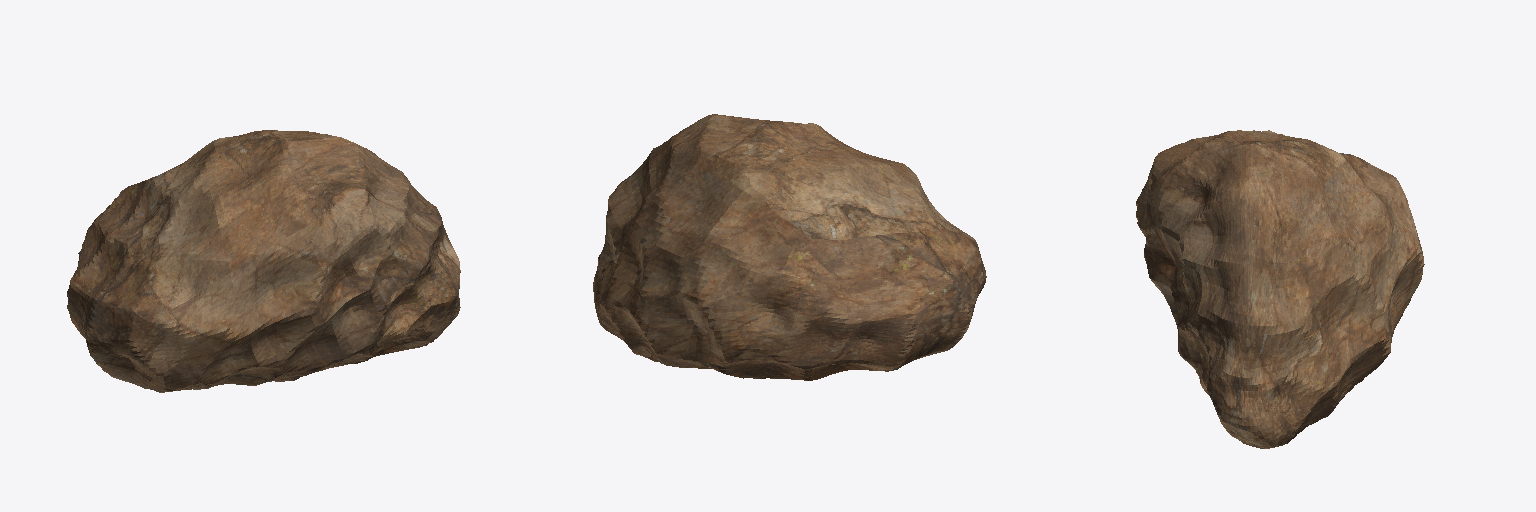
3 views of the same model, side by side, from view 1: azimuth 30°, elevation 25°; view 2: azimuth 150°, elevation 25°; view 3: azimuth 270°, elevation 25° (orthographic).
Visible parts, largest first — view 1: rock4; view 2: rock4; view 3: rock4.
Part boxes in pixels (bbox=[...]): rock4: bbox=[67, 130, 460, 392]; rock4: bbox=[593, 114, 986, 380]; rock4: bbox=[1136, 130, 1424, 448].
Size of the model in its own units: 69.73 by 43.26 by 47.
Materials: 1 (1 with a texture image).